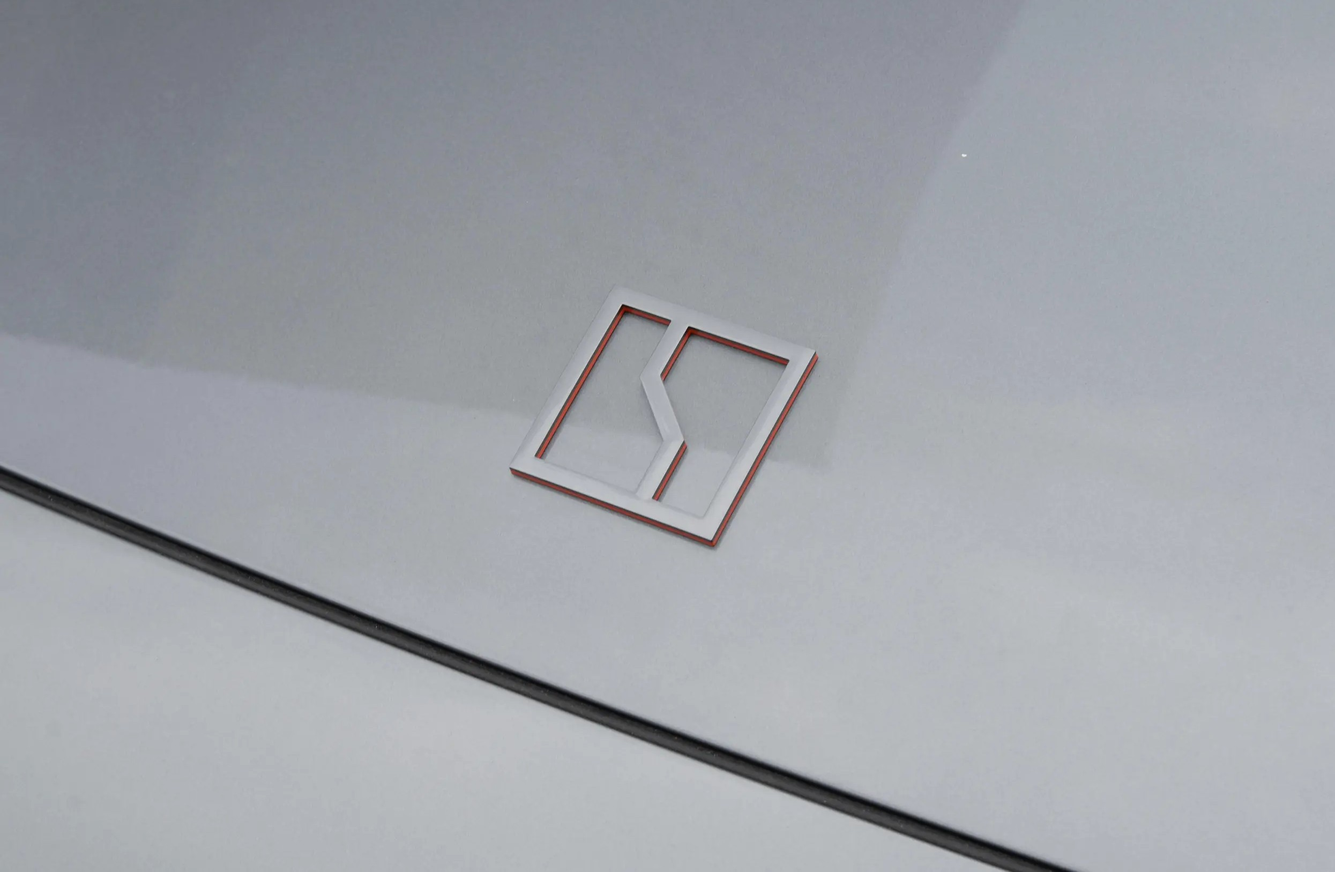ZEEKR: (510, 284, 816, 546)
